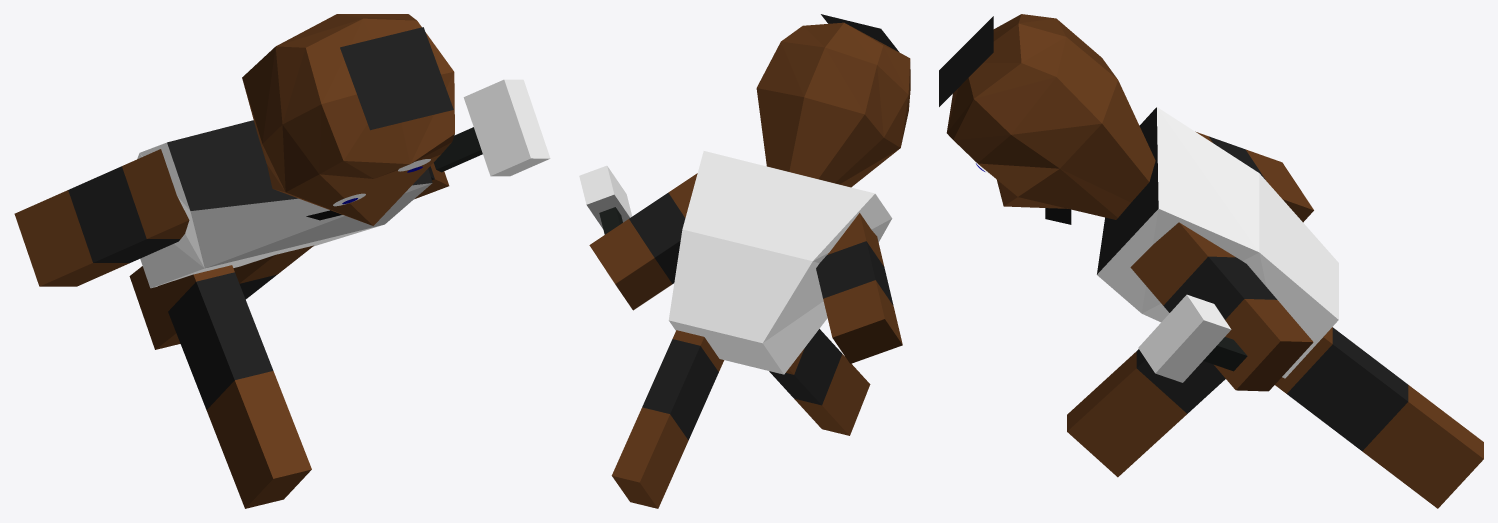
File: slave1f.obj
3 views of the same model, side by side, from view 1: azimuth 30°, elevation 25°; view 2: azimuth 150°, elevation 25°; view 3: azimuth 270°, elevation 25° (orthographic). The views are drawn at different scales.
Visible parts, largest first — view 1: Cube, Cube.001, Cube.004, Cube.003, Plane.002, Cube.008, Cube.005, Cube.007; view 2: Cube.001, Cube, Cube.005, Cube.003, Cube.002, Cube.004, Cube.008, Plane.002, Cube.007; view 3: Cube, Cube.001, Cube.005, Cube.002, Cube.004, Cube.008, Cube.003, Plane.002, Cube.007.
Part boxes in pixels (<box>): Cube: <box>242,14,454,225</box>; Cube.001: <box>137,120,432,288</box>; Cube.004: <box>158,265,311,508</box>; Cube.003: <box>14,149,189,286</box>; Plane.002: <box>340,27,453,130</box>; Cube.008: <box>463,79,550,176</box>; Cube.005: <box>129,245,313,349</box>; Cube.007: <box>433,127,482,172</box>; Cube.001: <box>668,151,892,374</box>; Cube: <box>756,22,910,187</box>; Cube.005: <box>611,330,724,508</box>; Cube.003: <box>816,213,902,363</box>; Cube.002: <box>589,173,697,310</box>; Cube.004: <box>769,329,870,435</box>; Cube.008: <box>579,165,632,228</box>; Plane.002: <box>821,14,899,52</box>; Cube.007: <box>599,207,622,234</box>; Cube: <box>946,14,1155,219</box>; Cube.001: <box>1097,107,1338,378</box>; Cube.005: <box>1275,327,1483,508</box>; Cube.002: <box>1130,222,1313,391</box>; Cube.004: <box>1067,349,1225,477</box>; Cube.008: <box>1138,294,1231,382</box>; Cube.003: <box>1195,131,1313,222</box>; Plane.002: <box>939,16,993,106</box>; Cube.007: <box>1203,337,1247,371</box>.
Bounding box in the file's own units: 4.16 × 4.4 × 4.68.
